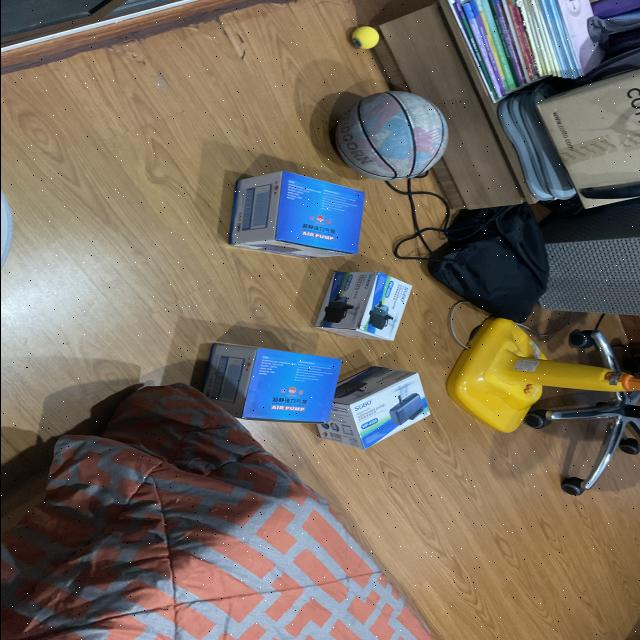SOBO_WP_4200: (316, 354, 448, 459), (309, 265, 425, 345)
YAMANO_LPP_20: (169, 332, 366, 434), (214, 164, 370, 264)
